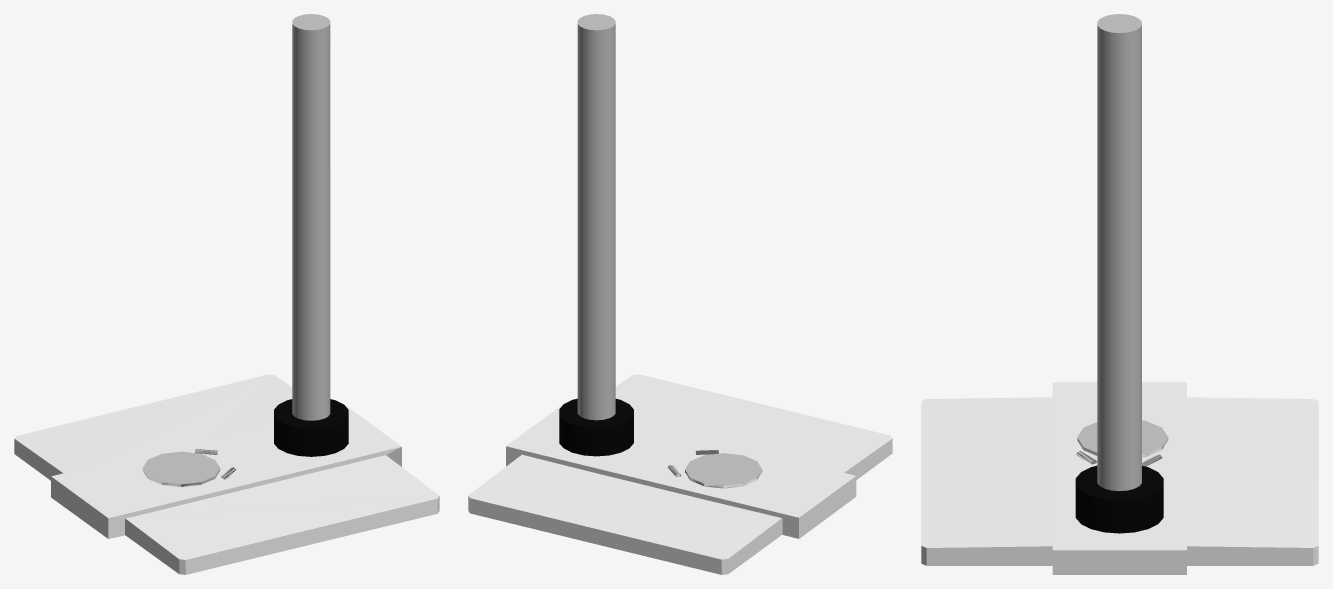
Rendered from Microscopio_Base.FBX.
The picture shows the model from 3 angles, left to right: view 1: azimuth 30°, elevation 25°; view 2: azimuth 150°, elevation 25°; view 3: azimuth 270°, elevation 25°; orthographic projection. The views are drawn at different scales.
Parts seen in each view (by area): view 1: Microscopio_Base; view 2: Microscopio_Base; view 3: Microscopio_Base.
Boxes of the visible parts, x1=… form: Microscopio_Base: x1=14, y1=14, x2=439, y2=574; Microscopio_Base: x1=468, y1=14, x2=892, y2=574; Microscopio_Base: x1=921, y1=14, x2=1318, y2=574.
Bounding box in the file's own units: 28 × 40.1 × 28.
1 material, 1 textured.
